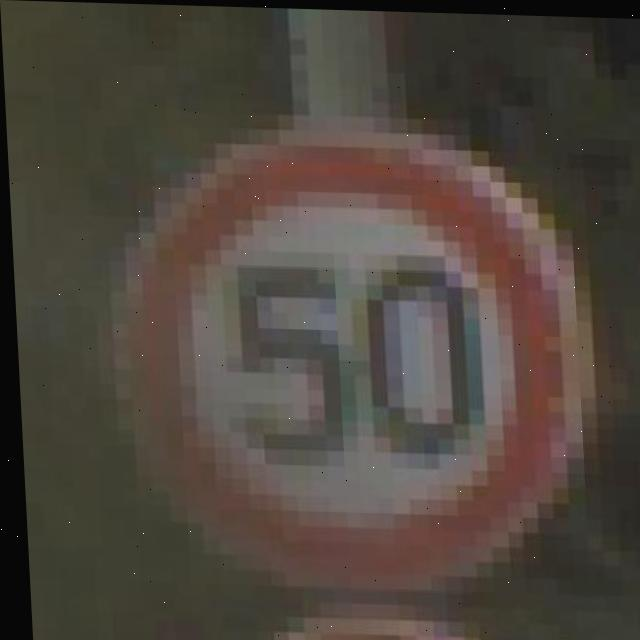Speed limit 50: (108, 113, 597, 596)
